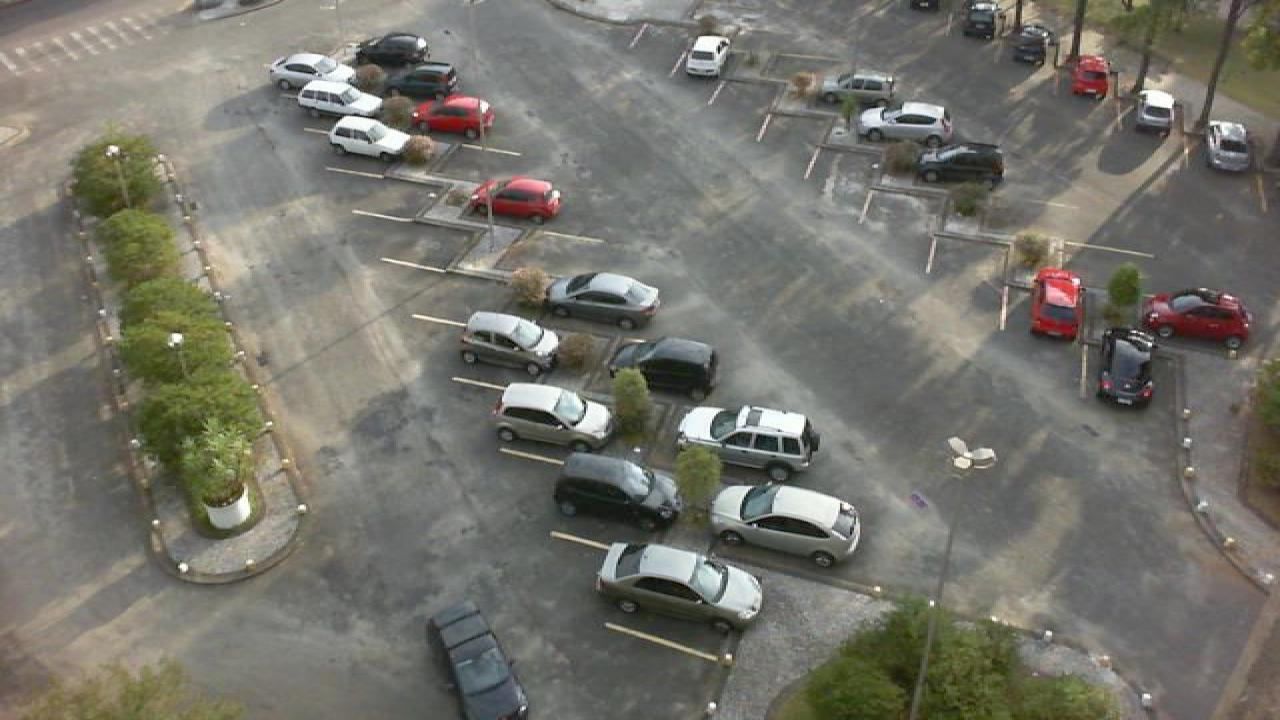Car: (596, 542, 764, 632), (710, 479, 862, 568), (674, 402, 822, 482), (550, 450, 682, 529), (490, 382, 618, 455), (1140, 286, 1254, 358), (456, 309, 562, 377), (542, 270, 662, 330), (604, 335, 722, 396), (1094, 327, 1160, 410), (466, 174, 564, 224), (908, 140, 1006, 184), (858, 102, 952, 146), (1028, 269, 1084, 340), (412, 94, 498, 140), (296, 78, 382, 122), (326, 117, 412, 160), (266, 52, 350, 93), (1200, 118, 1256, 174), (350, 31, 430, 70), (816, 70, 898, 108), (384, 61, 460, 101), (680, 34, 734, 80), (1130, 88, 1176, 134), (1070, 54, 1114, 98), (1010, 22, 1052, 66), (960, 0, 1002, 38)
